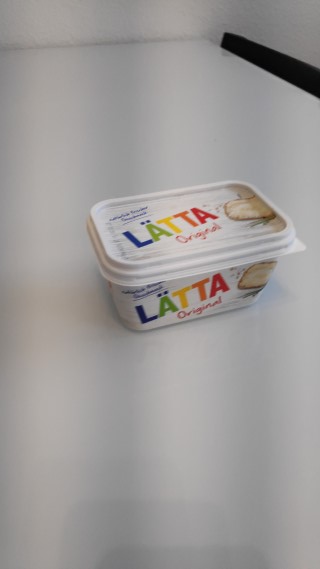laetta: (86, 181, 310, 333)
